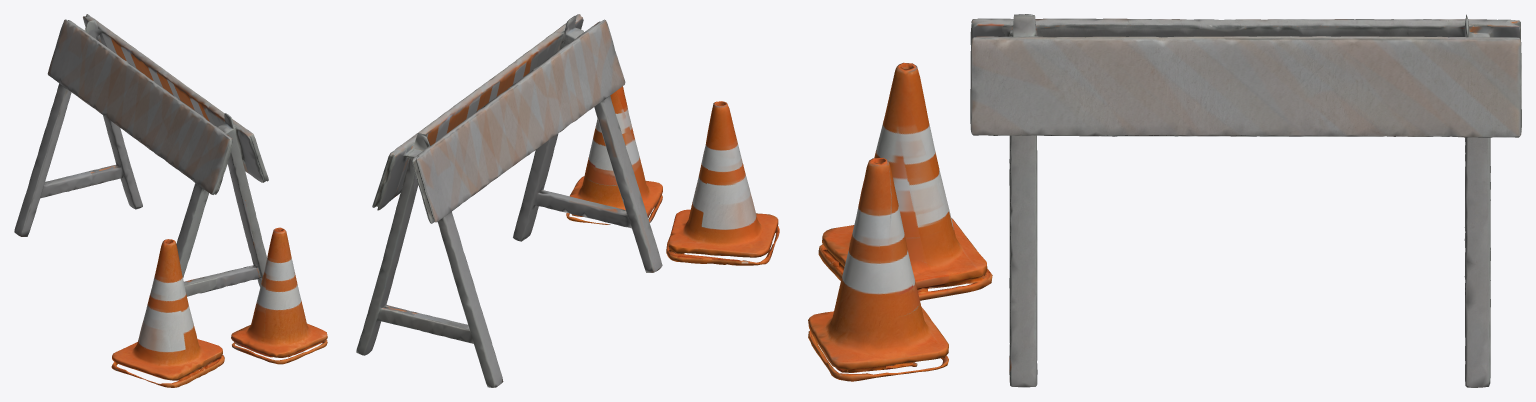
File: ConstructionBarrier.glb
3 views of the same model, side by side, from view 1: azimuth 30°, elevation 25°; view 2: azimuth 150°, elevation 25°; view 3: azimuth 270°, elevation 25° (orthographic). The views are drawn at different scales.
Visible parts, largest first — view 1: texture_mapping; view 2: texture_mapping; view 3: texture_mapping.
Part boxes in pixels (<box>): texture_mapping: <box>14,14,327,387</box>; texture_mapping: <box>356,14,779,387</box>; texture_mapping: <box>808,14,1521,387</box>.
Bounding box in the file's own units: 0.5159 × 0.5238 × 1.
1 material, 1 textured.
